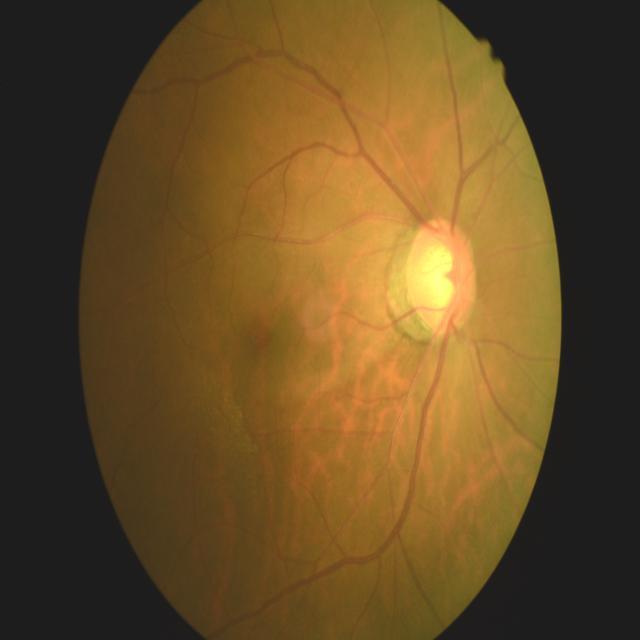cup: (424, 238, 460, 314)
disk: (407, 216, 478, 338)
